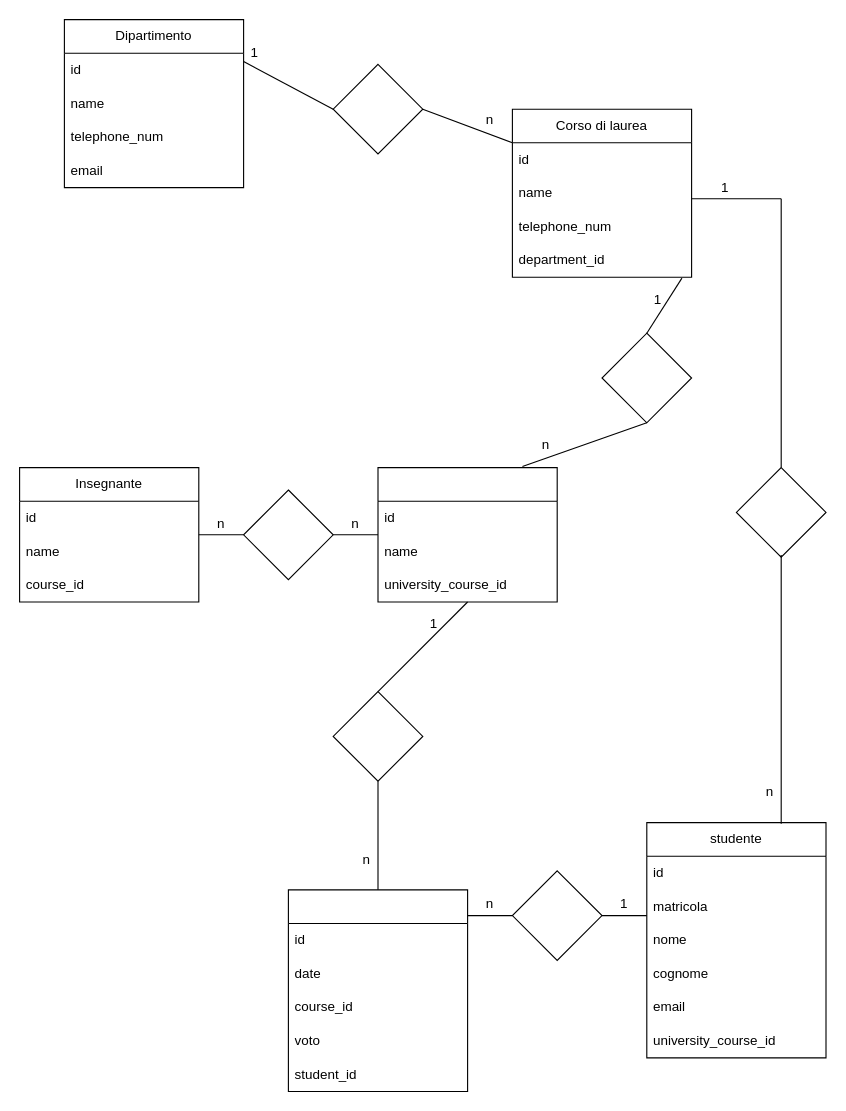
Some shapes in this 846 by 1111 pixel diagram are drawn without their labels. Each missing label, with the box of its shape:
appello d'esame: (287, 889, 468, 1091)
Corso: (377, 466, 557, 602)
